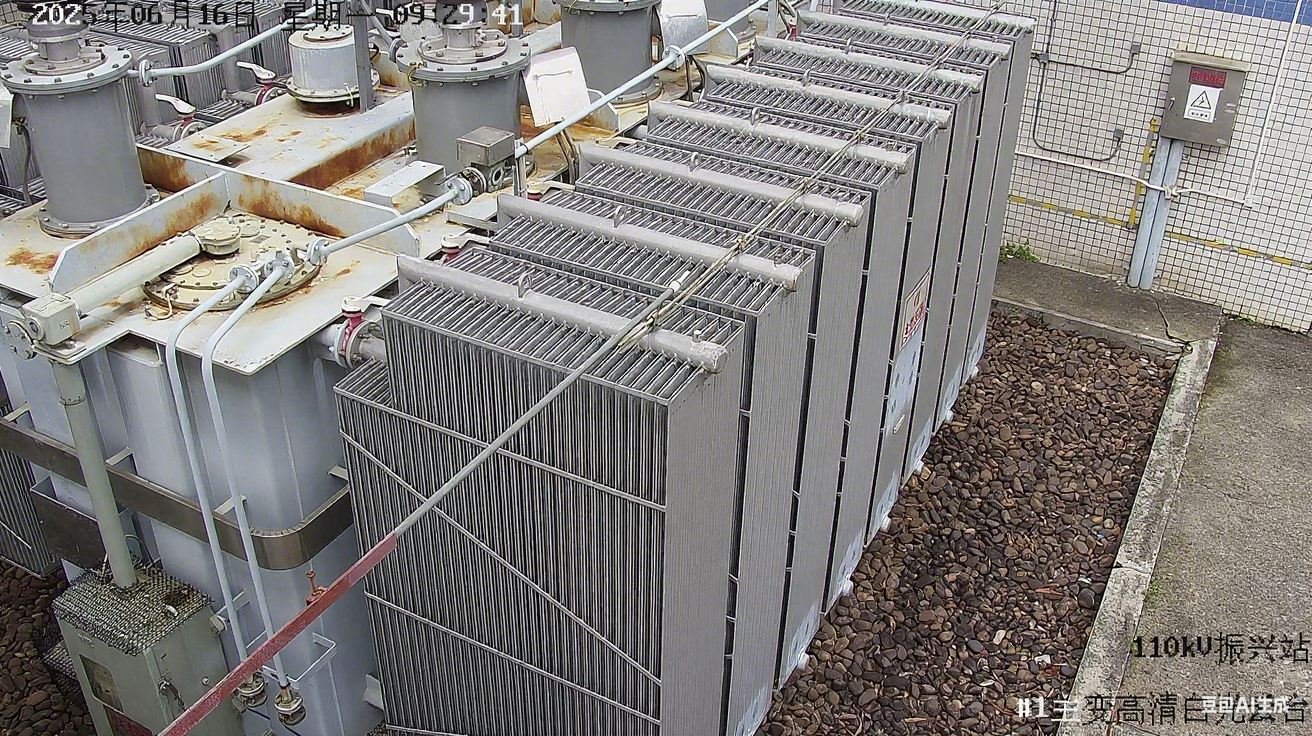HTX: (2, 0, 735, 321)
